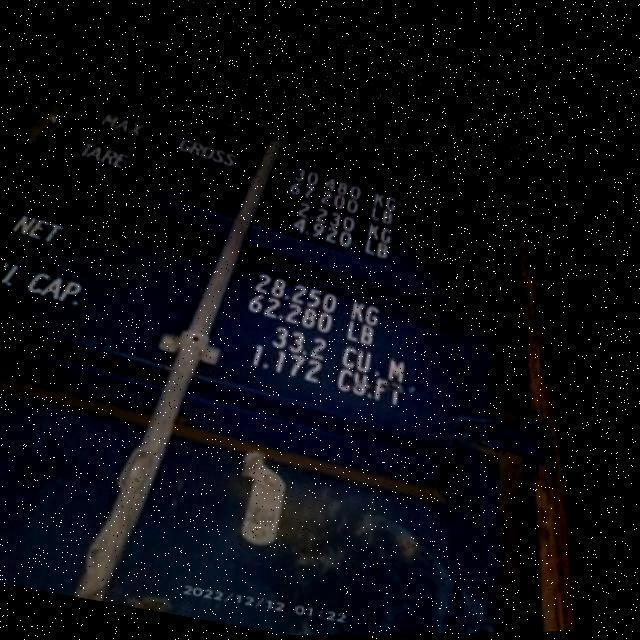container_number_h: (143, 0, 545, 191)
